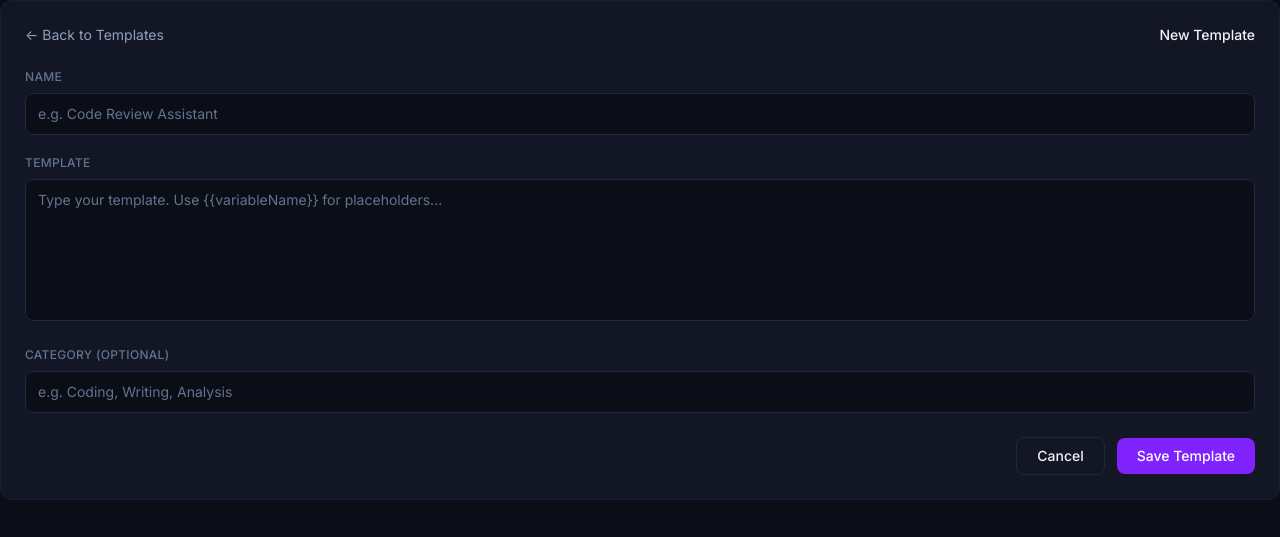
Scenario: TemplateEditor › validation — template text required (TC-E-04)
# Fill name but leave template empty
Type "Test" into the field labelled "Name". click: (640, 114)
box: [25, 93, 1255, 135]
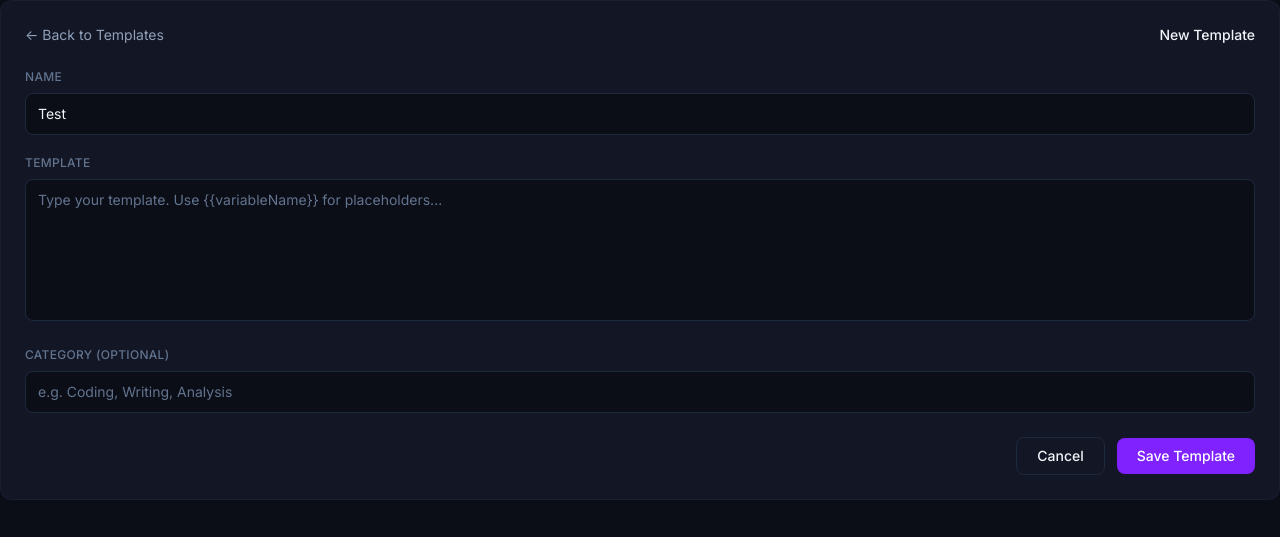
Click the button "Save Template". click: (1186, 456)
box: [1117, 438, 1255, 474]
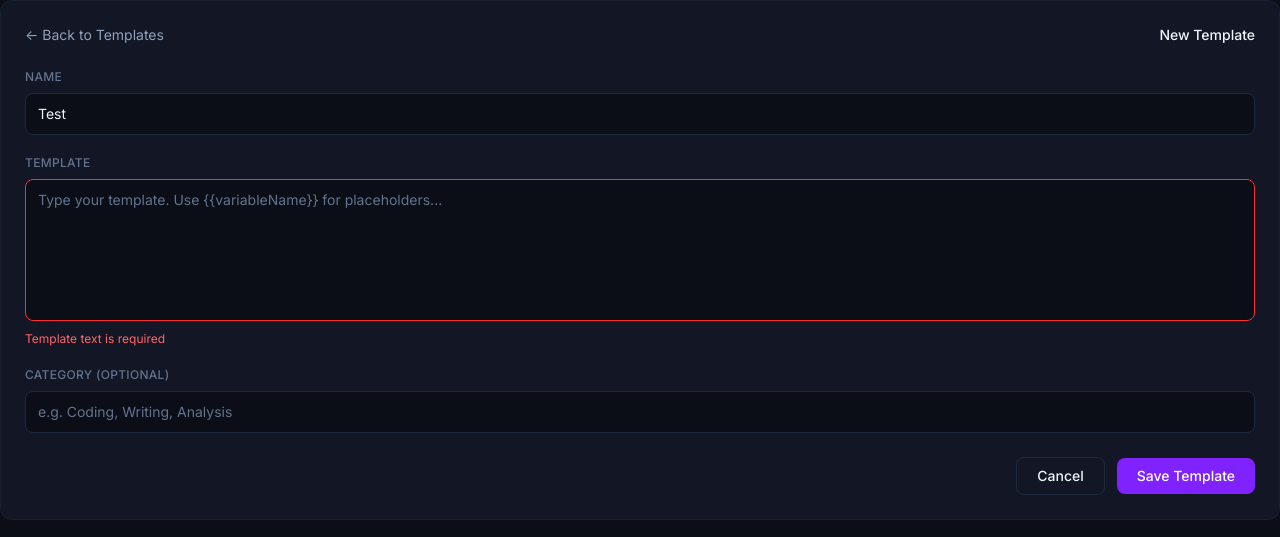
Expected: the text "Template text is required" is shown, [25, 331, 165, 346]
